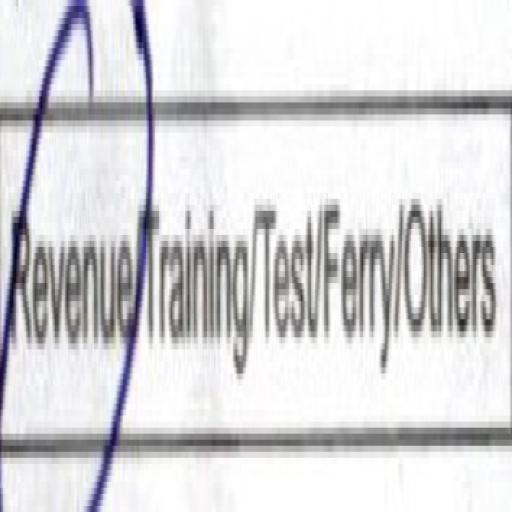check: (0, 0, 136, 512)
